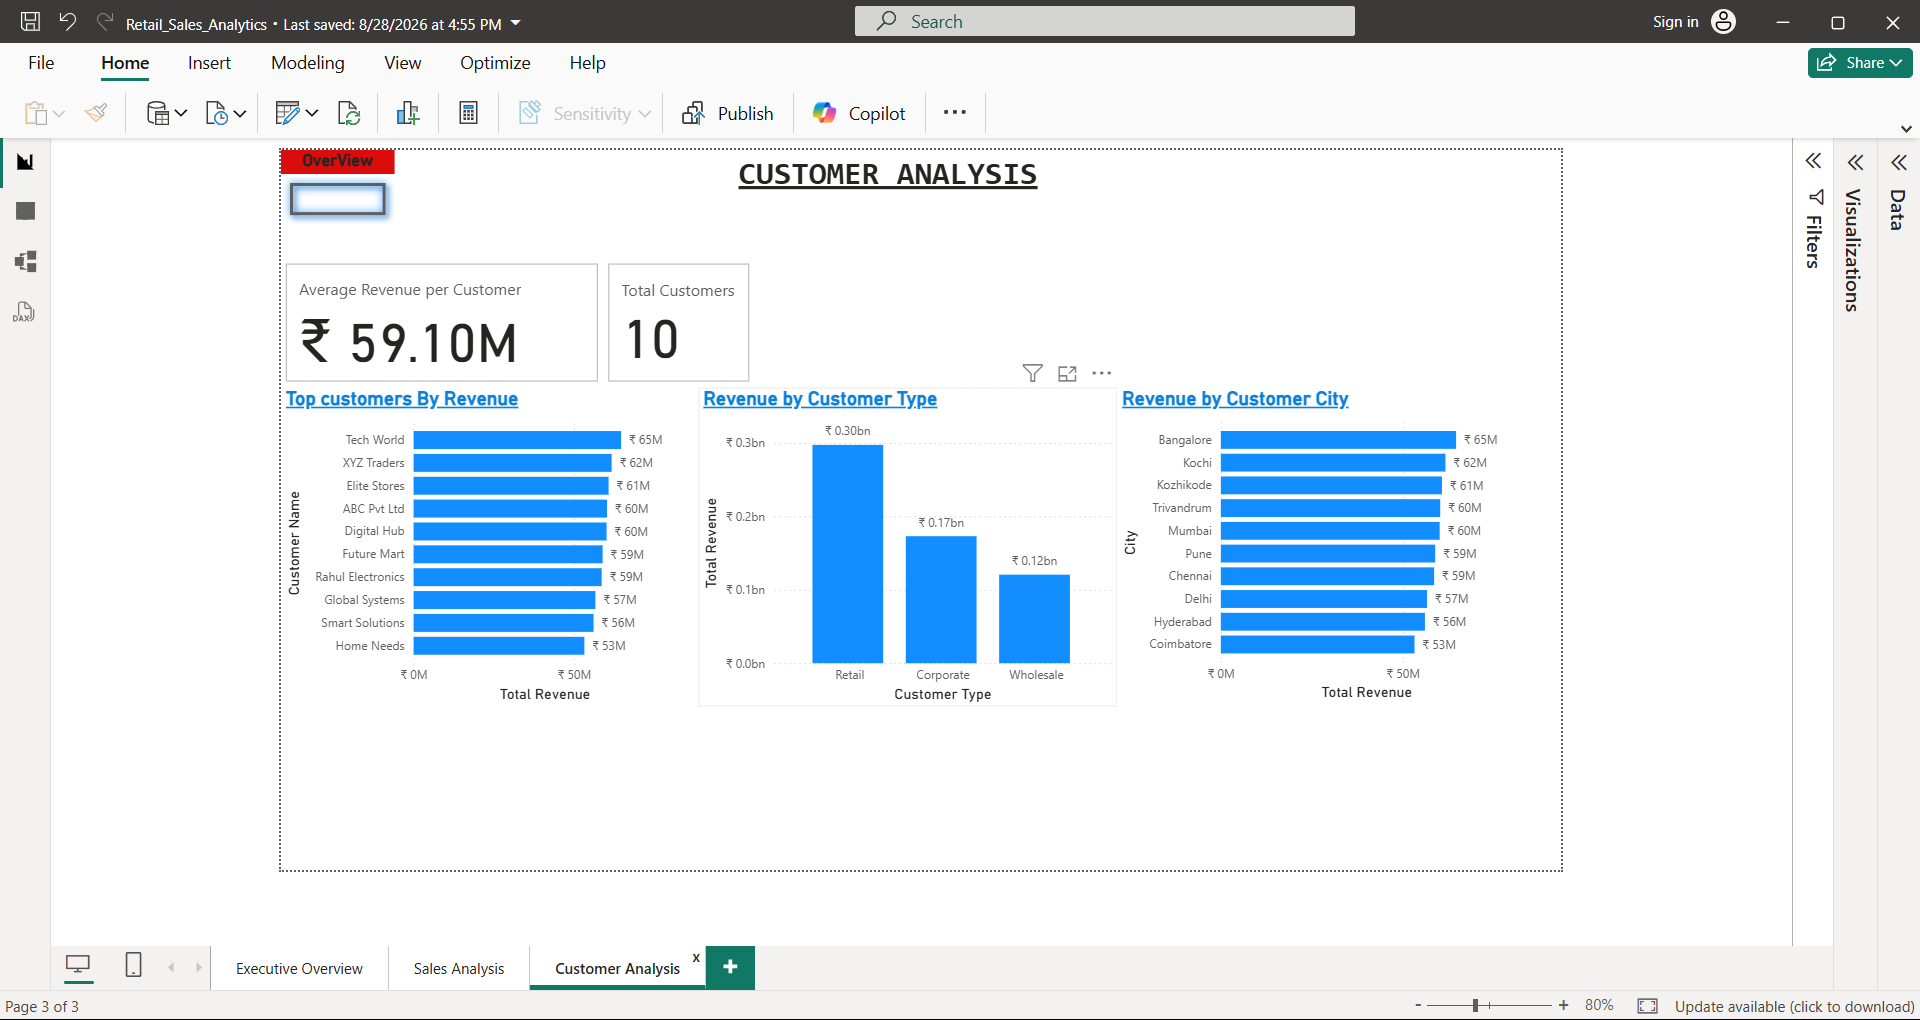

What the dashboard file says about the page in this screenshot:
{"tool":"powerbi","page":{"name":"Customer Analysis","canvas":[1280,720],"ordinal":2},"visuals":[{"type":"textbox","box":[403.9,0,406.7,47.7],"z":0},{"type":"cardVisual","fields":{"Data":["Customers.Average Revenue per Customer"]},"box":[0,109.3,322.2,128.3],"z":1000},{"type":"cardVisual","fields":{"Data":["Customers.Total Customers"]},"box":[322.2,109.3,151.6,128.3],"z":2000},{"type":"barChart","title":"Top customers By Revenue","fields":{"Category":["Customers.Customer Name"],"Y":["Sales.Total Revenue"]},"box":[0,237,417.9,319.7],"z":3000},{"type":"columnChart","title":"Revenue by Customer Type","fields":{"Y":["Sales.Total Revenue"],"Category":["Customers.Customer Type"]},"box":[417.9,237,417.9,319.7],"z":4000},{"type":"barChart","title":"Revenue by Customer City","fields":{"Y":["Sales.Total Revenue"],"Category":["Customers.City"]},"box":[835.8,237,417.9,318.3],"z":5000},{"type":"actionButton","title":"OverView","box":[0,0,113.6,74.3],"z":6000}]}

Visuals, with their boxes on the page's 1280x720 design canvas (x1, y1, x2, y2). These are canvas units, not pixel positions in the 1920x1020 screenshot, which may show the page scaled, cropped or inside an application window:
textbox: box=[404, 0, 811, 48]
cardVisual - Customers.Average Revenue per Customer: box=[0, 109, 322, 238]
cardVisual - Customers.Total Customers: box=[322, 109, 474, 238]
"Top customers By Revenue" barChart: box=[0, 237, 418, 557]
"Revenue by Customer Type" columnChart: box=[418, 237, 836, 557]
"Revenue by Customer City" barChart: box=[836, 237, 1254, 555]
"OverView" actionButton: box=[0, 0, 114, 74]
